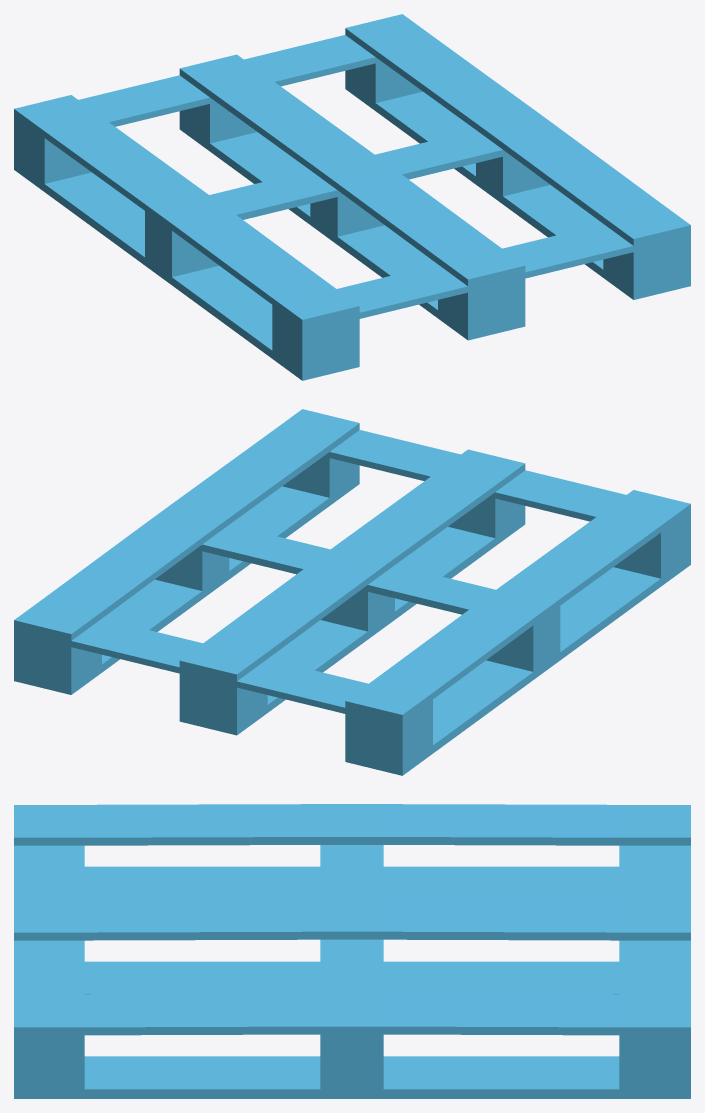
The model's file is Palets.fbx.
3 views of the same model, one above another, from view 1: azimuth 30°, elevation 25°; view 2: azimuth 150°, elevation 25°; view 3: azimuth 270°, elevation 25° (orthographic). The views are drawn at different scales.
Parts seen in each view (by area): view 1: Box043; view 2: Box043; view 3: Box043.
Part boxes in pixels (left/top/right/bottom): Box043: left=14, top=14, right=690, bottom=380; Box043: left=14, top=409, right=690, bottom=775; Box043: left=14, top=804, right=690, bottom=1098.
Size of the model in its own units: 127 by 19.18 by 163.
